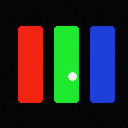0 point: (68, 72, 76, 80)
